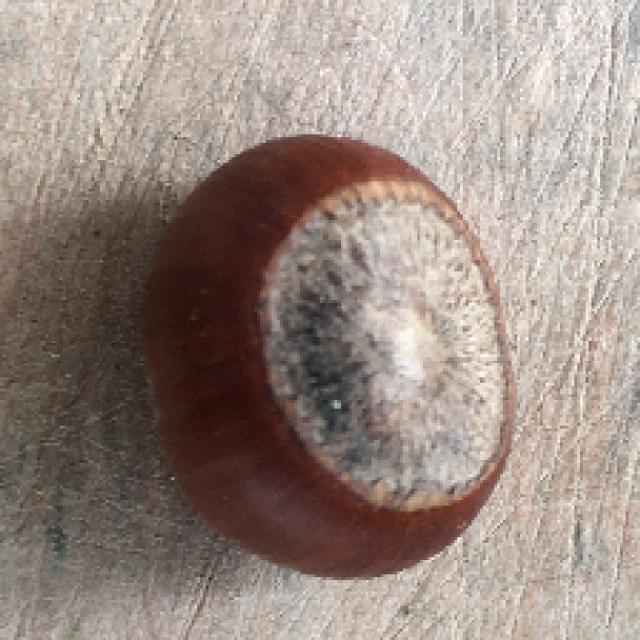qualityHazelnut: (143, 132, 516, 580)
